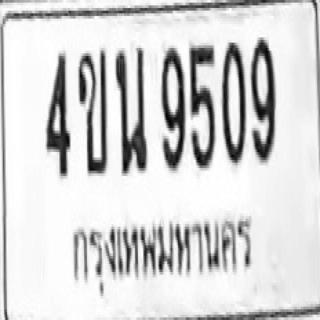A02: (77, 48, 107, 173)
A25: (114, 47, 146, 172)
N00: (250, 35, 274, 160), (221, 40, 245, 163)
N04: (43, 49, 70, 175)
N05: (189, 43, 215, 168)
N09: (160, 45, 185, 168), (250, 35, 274, 160)
P04: (67, 207, 261, 291)
